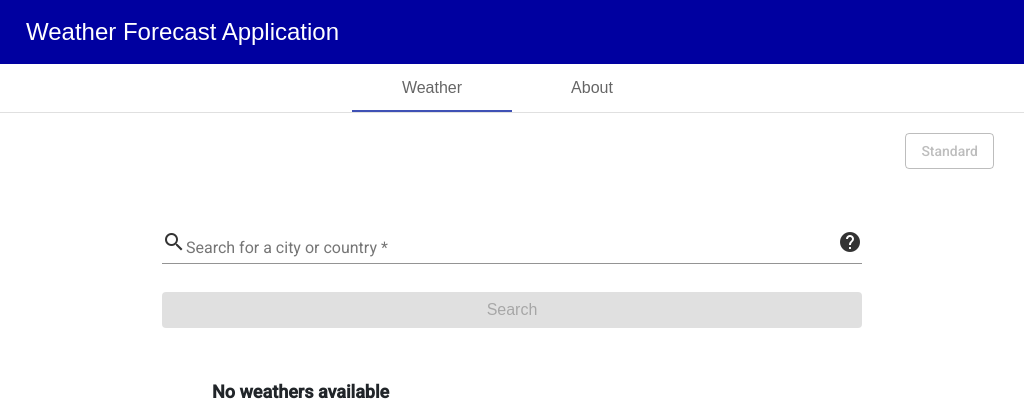
Test: Test weather application › should get warning and cannot search when type less than 3 characters
Type "Lo" into the field with test id "location-field".
click(512, 248); type("Lo")  # box [186,239,838,257]
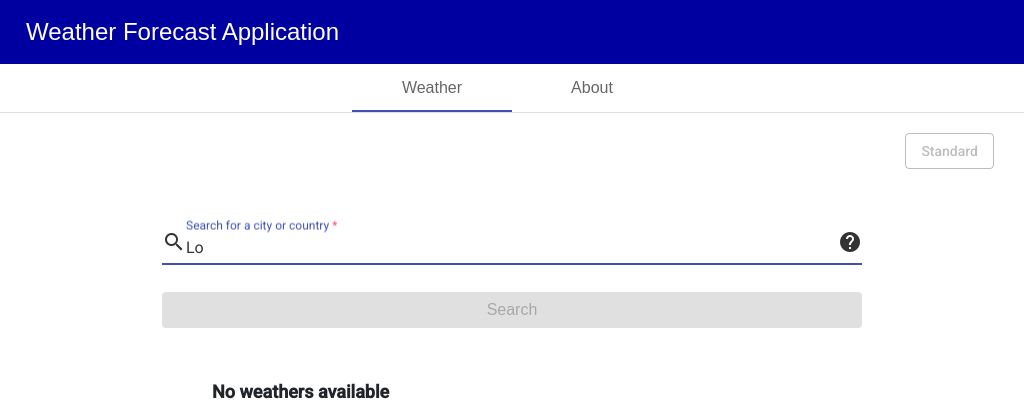
Click the picture with test id "help-icon".
click(850, 241)  # box [838,229,862,253]
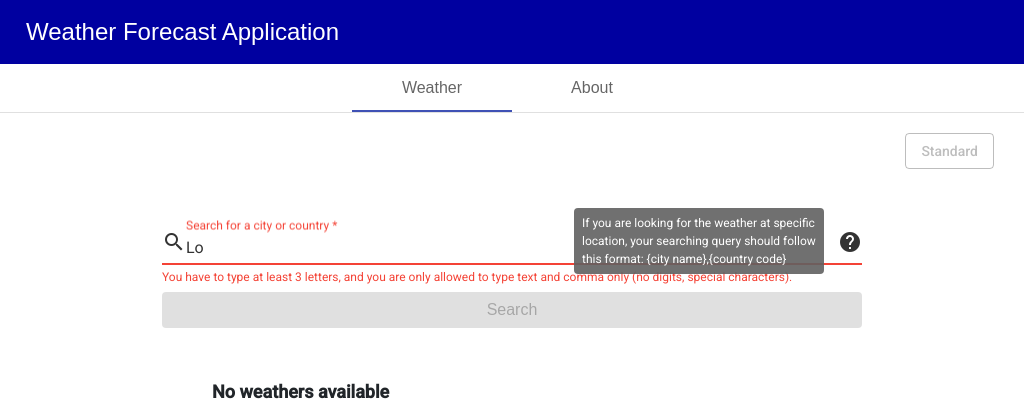
Expected: the text with test id "no-value" reads "No weathers available", [212,381,389,402]
Result: the text with test id "error-text" shows "You have to type at least 3 letters, and you are only allowed to type text and comma only (no digits, special characters)." at [162,270,792,284]
